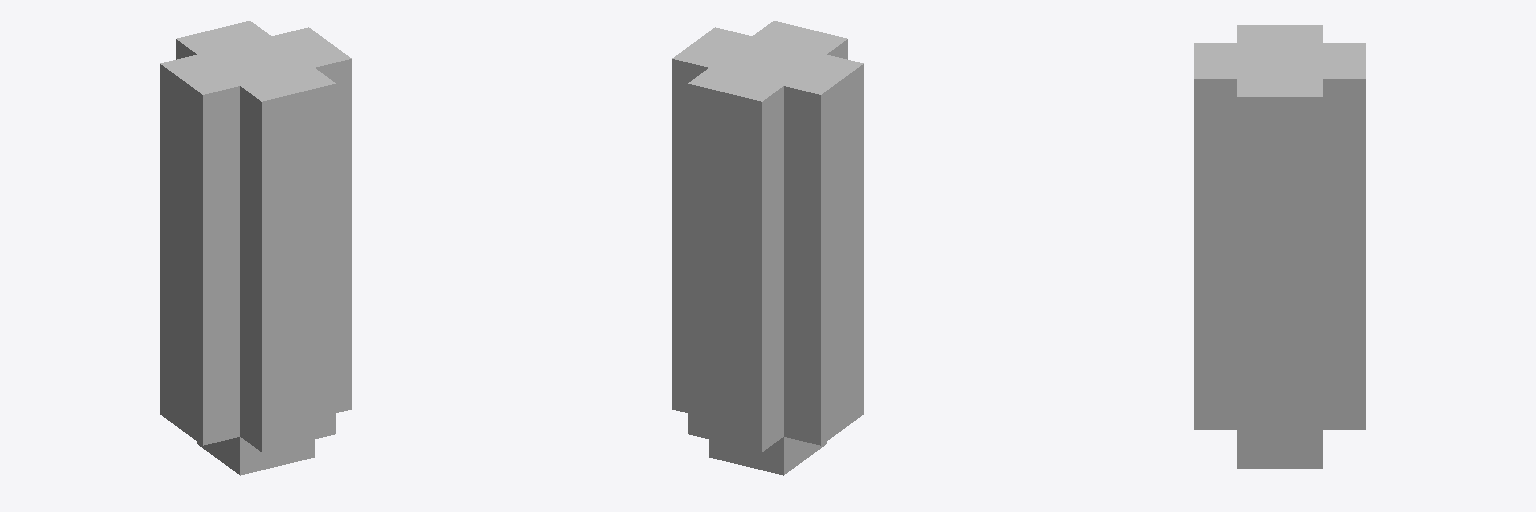
The model's file is Mdl_HumanKeeper_5.obj.
3 views of the same model, side by side, from view 1: azimuth 30°, elevation 25°; view 2: azimuth 150°, elevation 25°; view 3: azimuth 270°, elevation 25° (orthographic).
Visible parts, largest first — view 1: Mdl_HumanKeeper_5; view 2: Mdl_HumanKeeper_5; view 3: Mdl_HumanKeeper_5.
Part boxes in pixels (x1,y1,x2,y2): Mdl_HumanKeeper_5: (160, 21, 351, 475); Mdl_HumanKeeper_5: (672, 21, 863, 475); Mdl_HumanKeeper_5: (1194, 25, 1365, 468).
Size of the model in its own units: 4 by 10 by 4.